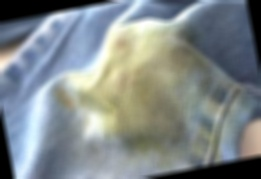earth: (68, 43, 195, 152)
